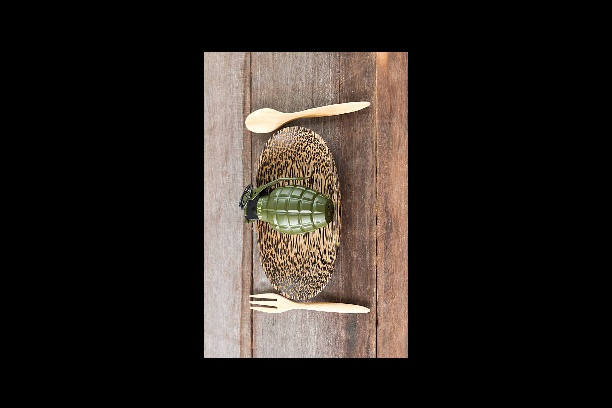e1: (231, 175, 338, 239)
